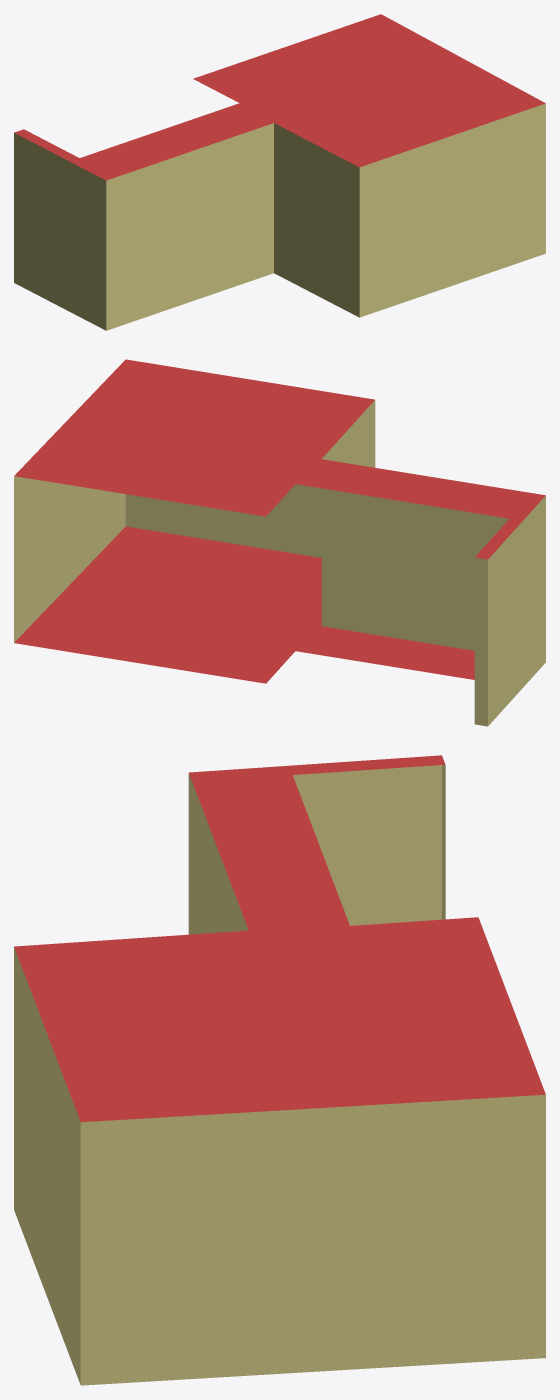
3 views of the same model, one above another, from view 1: azimuth 30°, elevation 25°; view 2: azimuth 150°, elevation 25°; view 3: azimuth 270°, elevation 25° (orthographic). The views are drawn at different scales.
Size of the model in its own units: 19.36 by 11.86 by 6.48.
